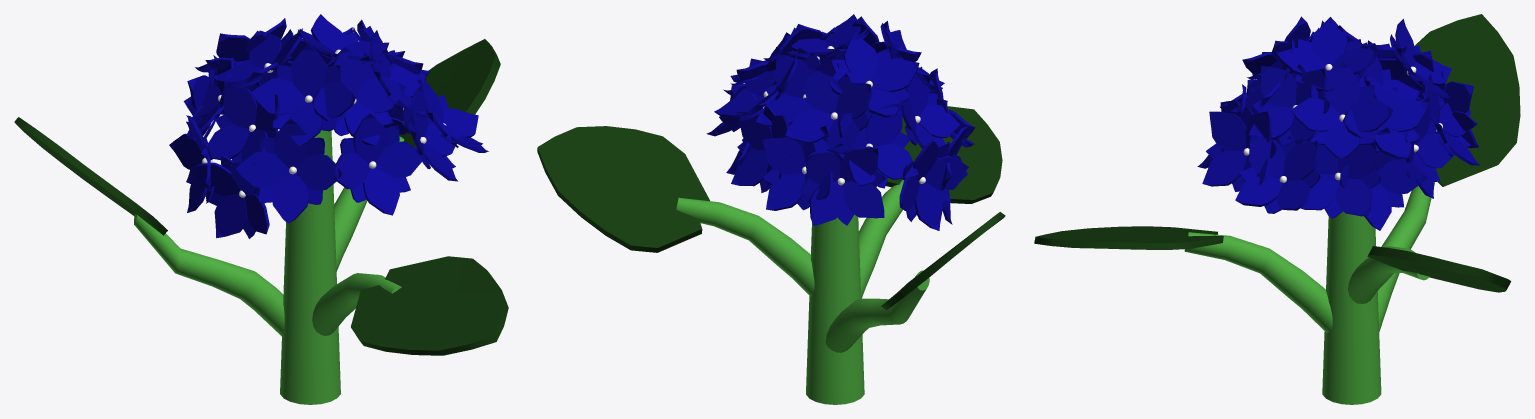
The model's file is hydrangea.fbx.
3 views of the same model, side by side, from view 1: azimuth 30°, elevation 25°; view 2: azimuth 150°, elevation 25°; view 3: azimuth 270°, elevation 25° (orthographic). The views are drawn at different scales.
Visible parts, largest first — view 1: Cylinder003; view 2: Cylinder003; view 3: Cylinder003.
Part boxes in pixels (x1,y1,x2,y2): Cylinder003: (14, 14, 508, 404); Cylinder003: (537, 14, 1005, 404); Cylinder003: (1034, 14, 1520, 404).
Bounding box in the file's own units: 0.3448 × 0.2615 × 0.3157.
